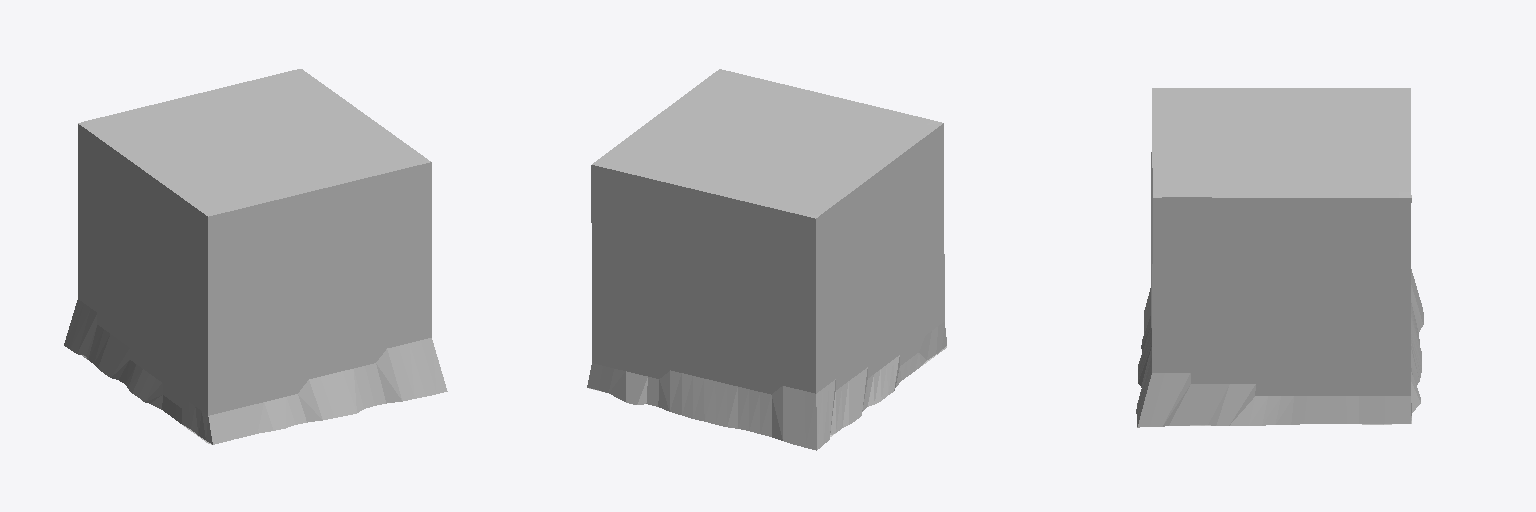
Rendered from mod0160.obj.
3 views of the same model, side by side, from view 1: azimuth 30°, elevation 25°; view 2: azimuth 150°, elevation 25°; view 3: azimuth 270°, elevation 25° (orthographic).
Visible parts, largest first — view 1: Box001; view 2: Box001; view 3: Box001.
Part boxes in pixels (left/top/right/bottom): Box001: left=64, top=69, right=447, bottom=444; Box001: left=587, top=69, right=946, bottom=450; Box001: left=1136, top=88, right=1423, bottom=427.
Bounding box in the file's own units: 0.5799 × 0.5213 × 0.5979.